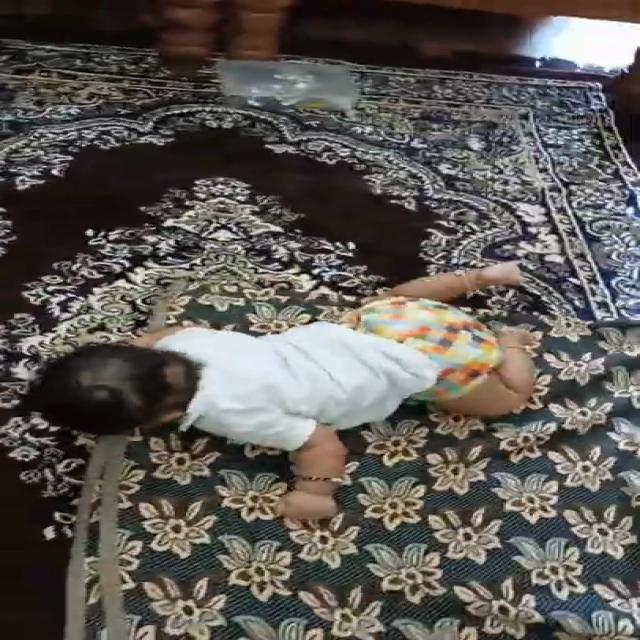baby: (15, 256, 562, 520)
